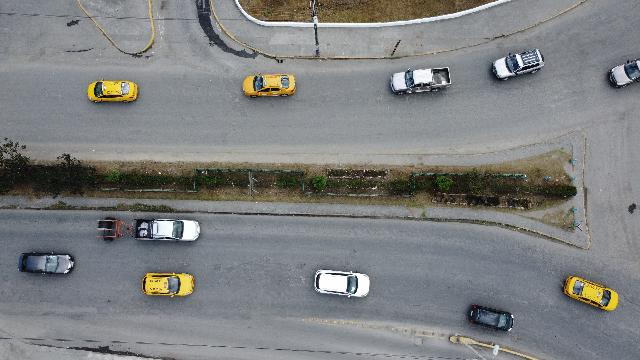Vehiculo: (563, 276, 619, 310), (391, 67, 451, 95), (492, 48, 544, 80), (314, 269, 370, 297), (132, 218, 200, 241), (242, 74, 296, 98), (142, 273, 194, 297), (18, 252, 74, 274), (468, 305, 514, 331), (87, 80, 137, 102), (610, 58, 640, 88)
